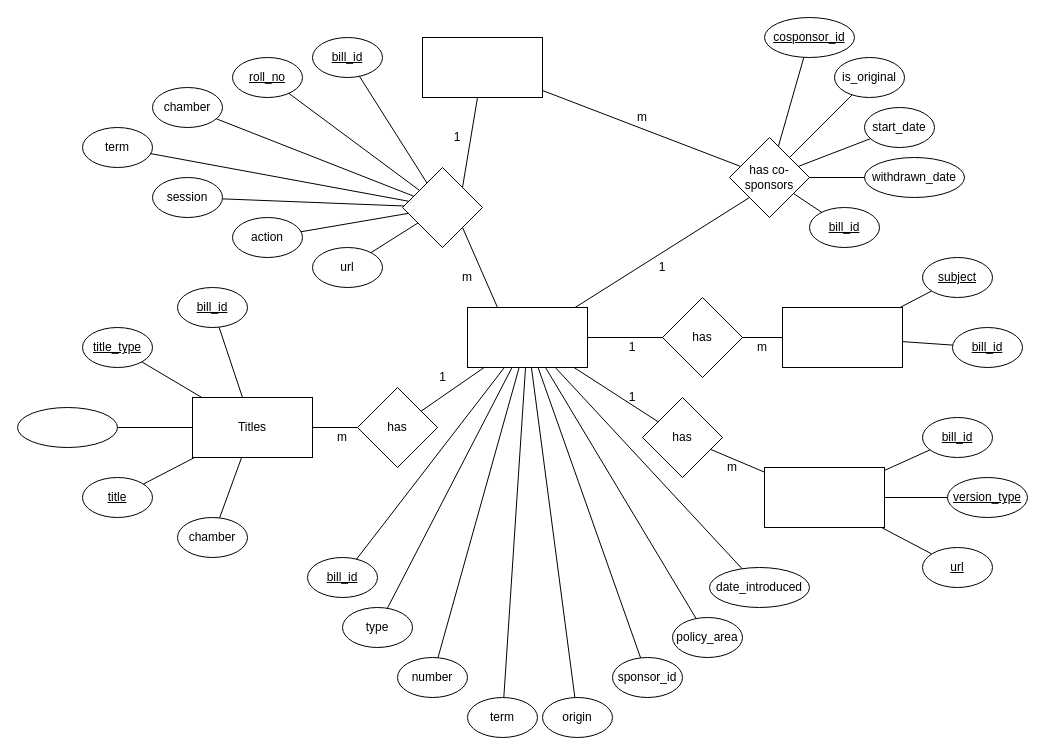
Image size: 1045x755. Some labels were removed from this diagram. The centre of each missing label's shape, as x and y in pixels:
bill: point 527,337
Congress_Person: point 482,67
Full_Text: point 824,497
parent_title_type: point 67,427
Subjects: point 842,337
votes on: point 442,207
